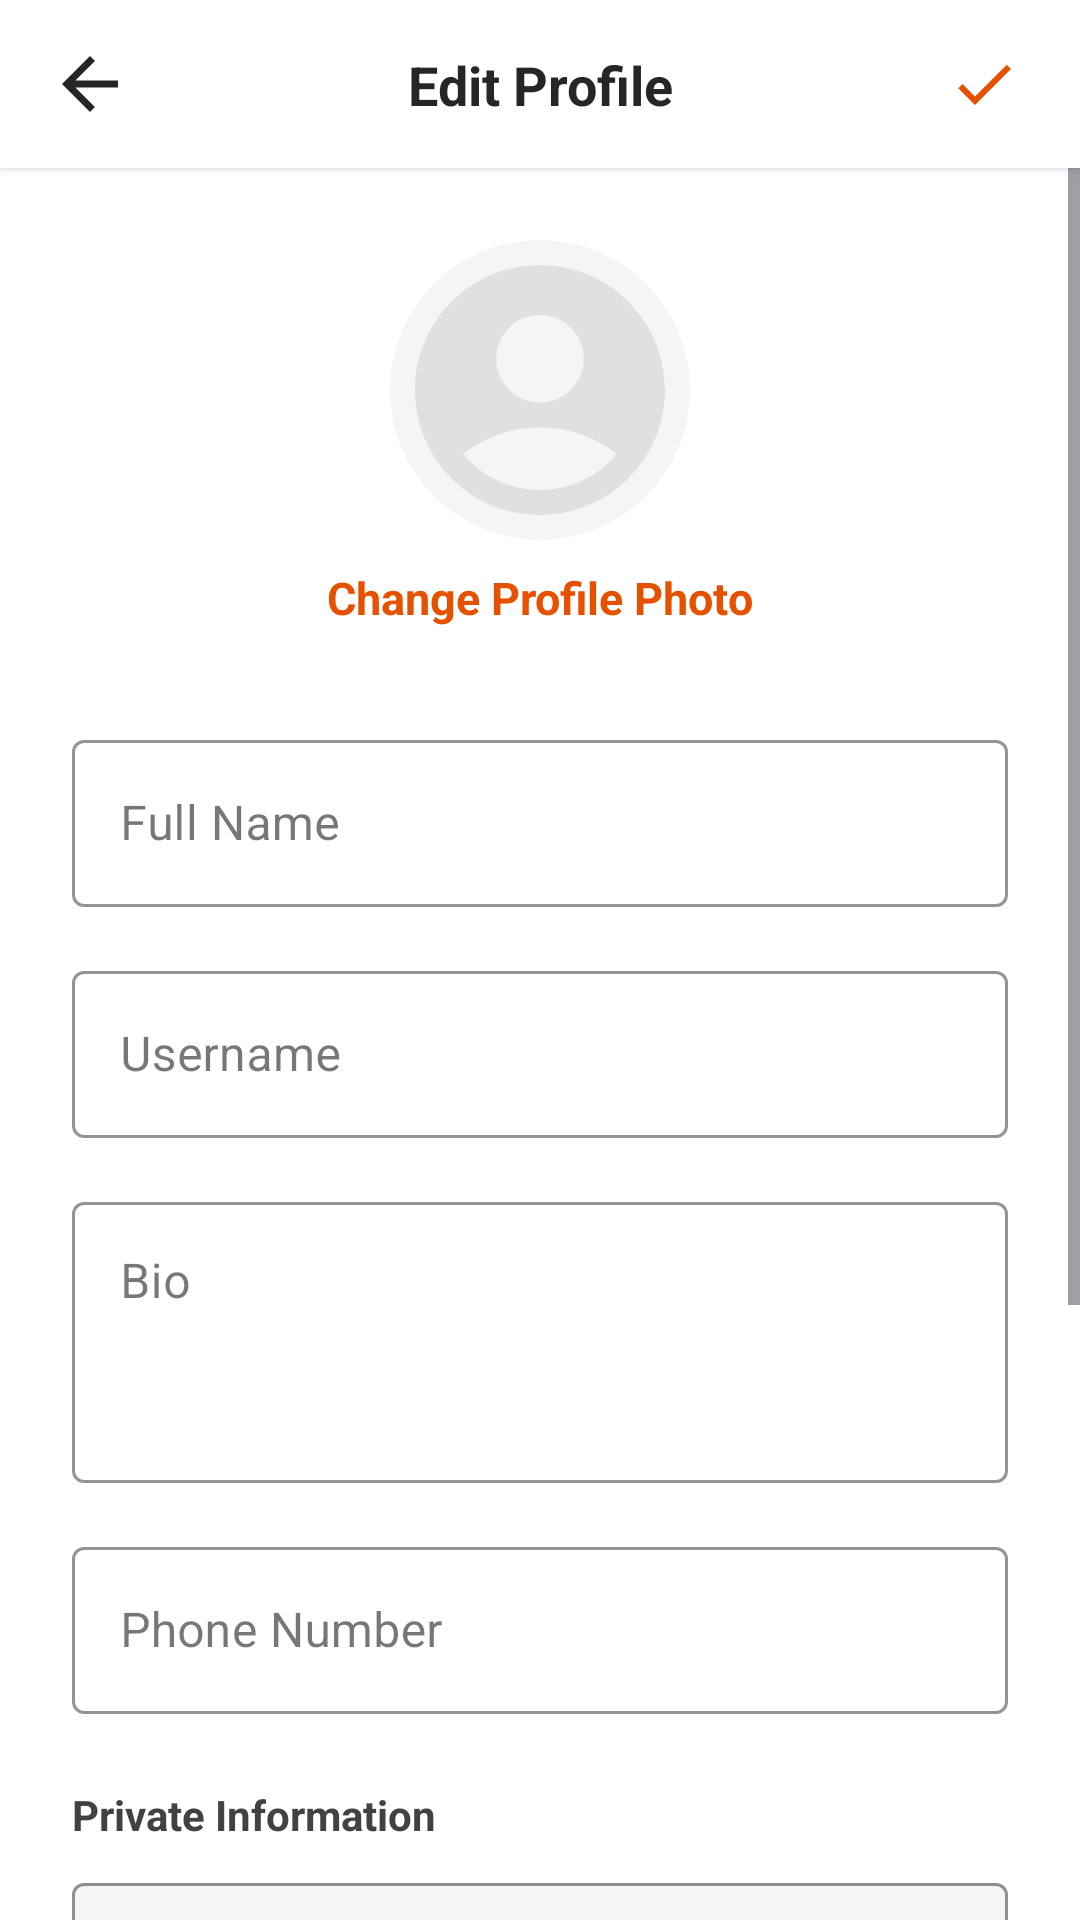

Locate icon controls on the screen. Image size 1080x1920, boxes as (x1, y1, x2, y2).
arrow: (62, 56, 118, 112)
check: (958, 65, 1011, 105)
